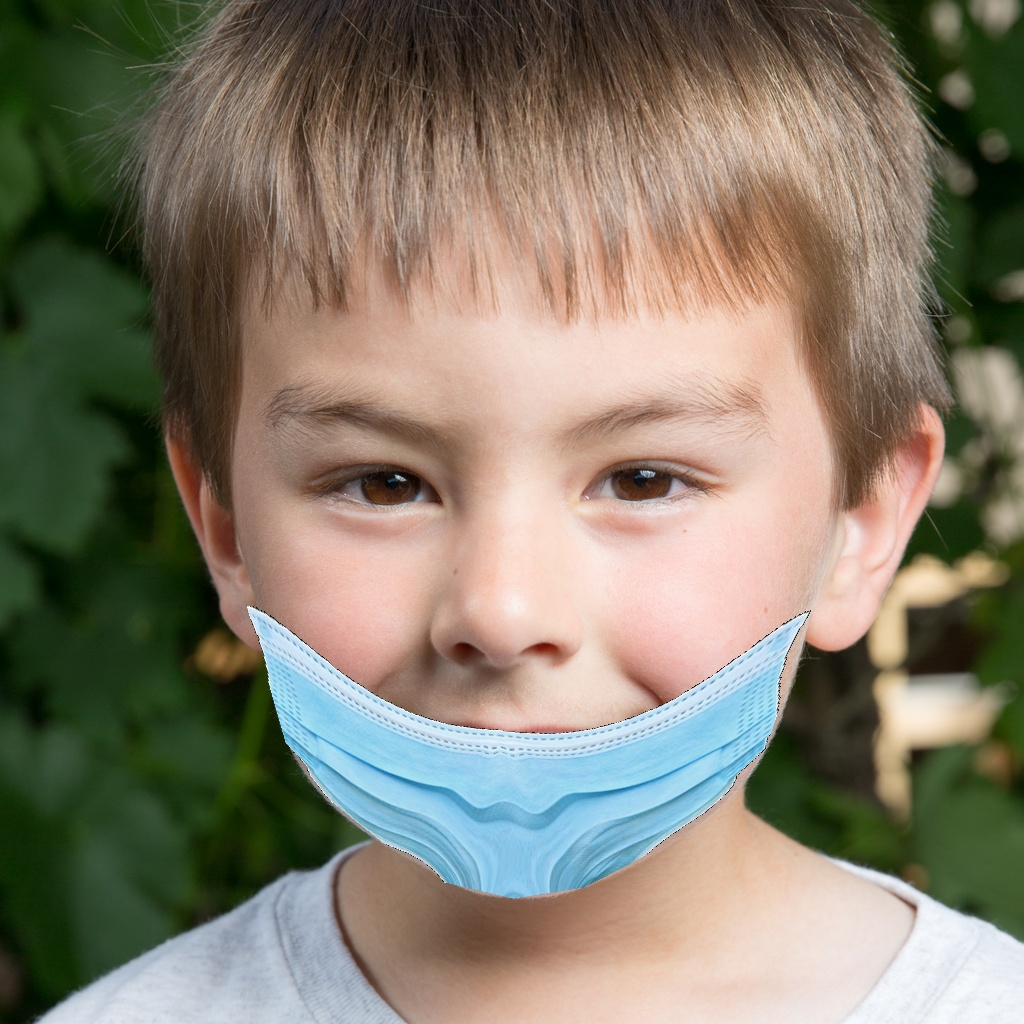mask_weared_incorrect: (230, 358, 841, 912)
